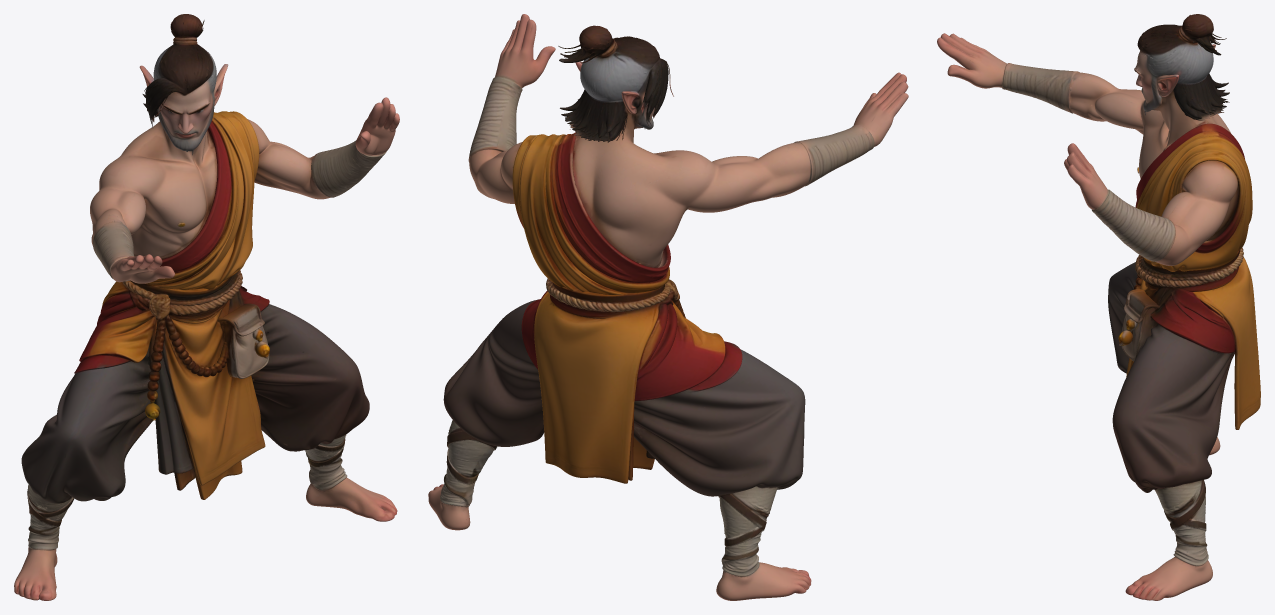
File: half_elf_monk_full_male_01.glb
3 renders of one model, left to right at view 1: azimuth 30°, elevation 25°; view 2: azimuth 150°, elevation 25°; view 3: azimuth 270°, elevation 25°, orthographic. The views are drawn at different scales.
Parts seen in each view (by area): view 1: material; view 2: material; view 3: material.
Part boxes in pixels (x1=…): material: x1=14, y1=14, x2=399, y2=600; material: x1=428, y1=14, x2=908, y2=600; material: x1=937, y1=14, x2=1260, y2=600.
Bounding box in the file's own units: 0.7112 × 0.9495 × 0.5564.
Materials: 1 (1 with a texture image).
